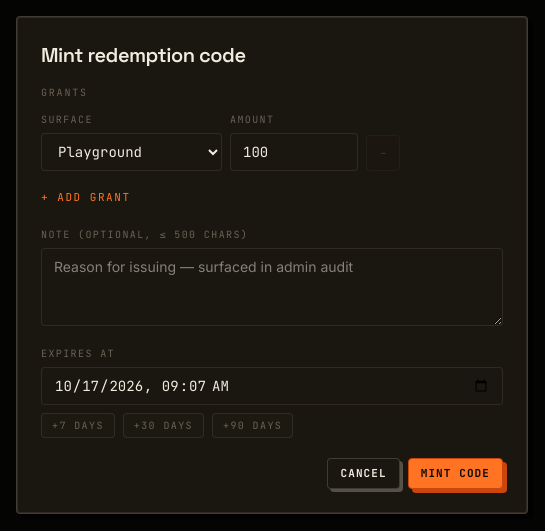
Test: MintRedemptionCodeModal › renders a copyable success state once the code is minted
Click the button "Mint code" at (455, 474), box [408, 458, 503, 489]
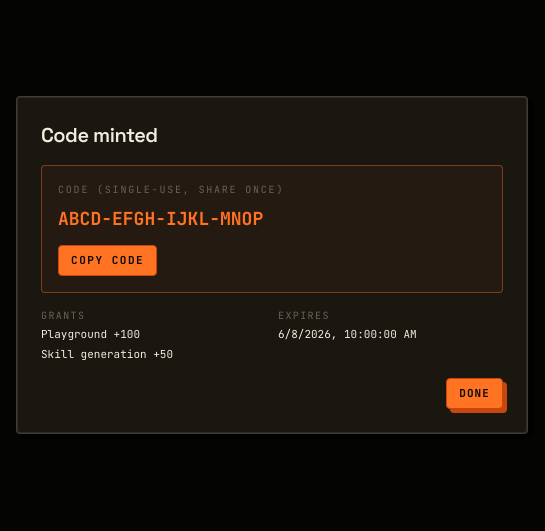
Expected: the text "ABCD-EFGH-IJKL-MNOP" is shown, [58, 207, 263, 230]
Expected: the button "Copy code" is shown, [58, 245, 157, 276]
Expected: the button "Done" is shown, [446, 378, 503, 409]
